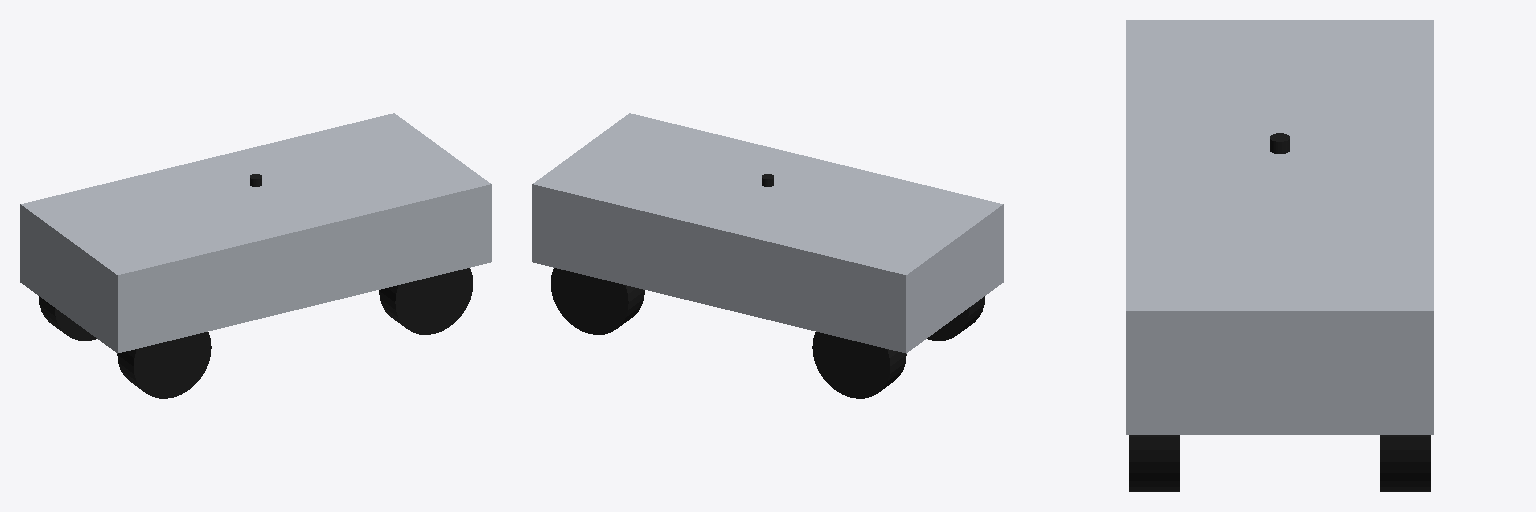
The robot description file, URDF, robot "cybertruck":
<?xml version="1.0" ?>
<!-- =================================================================================== -->
<!-- |    This document was autogenerated by xacro from install/cybertruck/share/cybertruck/urdf/cybertruck.urdf.xacro | -->
<!-- |    EDITING THIS FILE BY HAND IS NOT RECOMMENDED                                 | -->
<!-- =================================================================================== -->
<!--
  Cybertruck-style mobile robot.

  v = 0.1 m/s, omega = 0.1 rad/s
  wheel_radius r = 0.4175 m, wheel separation L = 1.46 m

  Rear wheels are driven, front wheels are frictionless casters.
  base_frame = body, odom_frame = odom.
-->
<robot name="cybertruck">
  <material name="silver">
    <color rgba="0.75 0.77 0.80 1.0"/>
  </material>
  <material name="dark">
    <color rgba="0.15 0.15 0.15 1.0"/>
  </material>
  <!-- ============================== links ============================ -->
  <link name="body">
    <visual>
      <geometry>
        <box size="4.0 1.8 0.8"/>
      </geometry>
      <origin rpy="0 0 0" xyz="0 0 1.0"/>
      <material name="silver"/>
    </visual>
    <collision>
      <geometry>
        <box size="4.0 1.8 0.8"/>
      </geometry>
      <origin rpy="0 0 0" xyz="0 0 1.0"/>
    </collision>
    <inertial>
      <mass value="800.0"/>
      <origin rpy="0 0 0" xyz="0 0 1.0"/>
      <inertia ixx="258.6666666666667" ixy="0.0" ixz="0.0" iyy="1109.3333333333333" iyz="0.0" izz="1282.6666666666667"/>
    </inertial>
  </link>
  <link name="lidar_link">
    <visual>
      <geometry>
        <cylinder length="0.08" radius="0.06"/>
      </geometry>
      <origin rpy="0 0 0" xyz="0 0 0.04"/>
      <material name="dark"/>
    </visual>
    <collision>
      <geometry>
        <cylinder length="0.08" radius="0.06"/>
      </geometry>
      <origin rpy="0 0 0" xyz="0 0 0.04"/>
    </collision>
    <inertial>
      <mass value="0.2"/>
      <origin rpy="0 0 0" xyz="0 0 0.04"/>
      <inertia ixx="0.000287" ixy="0.0" ixz="0.0" iyy="0.000287" iyz="0.0" izz="0.000360"/>
    </inertial>
  </link>
  <link name="back_left_wheel">
    <visual>
      <geometry>
        <cylinder length="0.3" radius="0.4175"/>
      </geometry>
      <origin rpy="1.5708 0 0" xyz="0 0 0"/>
      <material name="dark"/>
    </visual>
    <collision>
      <geometry>
        <cylinder length="0.3" radius="0.4175"/>
      </geometry>
      <origin rpy="1.5708 0 0" xyz="0 0 0"/>
    </collision>
    <inertial>
      <mass value="30.0"/>
      <origin rpy="0 0 0" xyz="0 0 0"/>
      <!-- axle along Y after the visual rotation above -->
      <inertia ixx="1.532296875" ixy="0.0" ixz="0.0" iyy="2.6145937499999996" iyz="0.0" izz="1.532296875"/>
    </inertial>
  </link>
  <joint name="body_to_back_left_wheel" type="continuous">
    <parent link="body"/>
    <child link="back_left_wheel"/>
    <origin rpy="0 0 0" xyz="-1.4 0.73 0.4175"/>
    <axis xyz="0 1 0"/>
    <dynamics damping="0.05" friction="0.0"/>
  </joint>
  <link name="back_right_wheel">
    <visual>
      <geometry>
        <cylinder length="0.3" radius="0.4175"/>
      </geometry>
      <origin rpy="1.5708 0 0" xyz="0 0 0"/>
      <material name="dark"/>
    </visual>
    <collision>
      <geometry>
        <cylinder length="0.3" radius="0.4175"/>
      </geometry>
      <origin rpy="1.5708 0 0" xyz="0 0 0"/>
    </collision>
    <inertial>
      <mass value="30.0"/>
      <origin rpy="0 0 0" xyz="0 0 0"/>
      <!-- axle along Y after the visual rotation above -->
      <inertia ixx="1.532296875" ixy="0.0" ixz="0.0" iyy="2.6145937499999996" iyz="0.0" izz="1.532296875"/>
    </inertial>
  </link>
  <joint name="body_to_back_right_wheel" type="continuous">
    <parent link="body"/>
    <child link="back_right_wheel"/>
    <origin rpy="0 0 0" xyz="-1.4 -0.73 0.4175"/>
    <axis xyz="0 1 0"/>
    <dynamics damping="0.05" friction="0.0"/>
  </joint>
  <link name="front_left_wheel">
    <visual>
      <geometry>
        <cylinder length="0.3" radius="0.4175"/>
      </geometry>
      <origin rpy="1.5708 0 0" xyz="0 0 0"/>
      <material name="dark"/>
    </visual>
    <collision>
      <geometry>
        <cylinder length="0.3" radius="0.4175"/>
      </geometry>
      <origin rpy="1.5708 0 0" xyz="0 0 0"/>
    </collision>
    <inertial>
      <mass value="20.0"/>
      <origin rpy="0 0 0" xyz="0 0 0"/>
      <!-- axle along Y after the visual rotation above -->
      <inertia ixx="1.02153125" ixy="0.0" ixz="0.0" iyy="1.7430625" iyz="0.0" izz="1.02153125"/>
    </inertial>
  </link>
  <joint name="body_to_front_left_wheel" type="continuous">
    <parent link="body"/>
    <child link="front_left_wheel"/>
    <origin rpy="0 0 0" xyz="1.4 0.73 0.4175"/>
    <axis xyz="0 1 0"/>
    <dynamics damping="0.05" friction="0.0"/>
  </joint>
  <link name="front_right_wheel">
    <visual>
      <geometry>
        <cylinder length="0.3" radius="0.4175"/>
      </geometry>
      <origin rpy="1.5708 0 0" xyz="0 0 0"/>
      <material name="dark"/>
    </visual>
    <collision>
      <geometry>
        <cylinder length="0.3" radius="0.4175"/>
      </geometry>
      <origin rpy="1.5708 0 0" xyz="0 0 0"/>
    </collision>
    <inertial>
      <mass value="20.0"/>
      <origin rpy="0 0 0" xyz="0 0 0"/>
      <!-- axle along Y after the visual rotation above -->
      <inertia ixx="1.02153125" ixy="0.0" ixz="0.0" iyy="1.7430625" iyz="0.0" izz="1.02153125"/>
    </inertial>
  </link>
  <joint name="body_to_front_right_wheel" type="continuous">
    <parent link="body"/>
    <child link="front_right_wheel"/>
    <origin rpy="0 0 0" xyz="1.4 -0.73 0.4175"/>
    <axis xyz="0 1 0"/>
    <dynamics damping="0.05" friction="0.0"/>
  </joint>
  <joint name="body_to_lidar" type="fixed">
    <parent link="body"/>
    <child link="lidar_link"/>
    <origin rpy="0 0 0" xyz="0 0 1.5"/>
  </joint>
  <!-- front wheels are casters: no friction at all -->
  <gazebo reference="front_left_wheel">
    <mu1>0.0</mu1>
    <mu2>0.0</mu2>
  </gazebo>
  <gazebo reference="front_right_wheel">
    <mu1>0.0</mu1>
    <mu2>0.0</mu2>
  </gazebo>
  <!-- rear wheels need real traction -->
  <gazebo reference="back_left_wheel">
    <mu1>1.0</mu1>
    <mu2>1.0</mu2>
  </gazebo>
  <gazebo reference="back_right_wheel">
    <mu1>1.0</mu1>
    <mu2>1.0</mu2>
  </gazebo>
  <!-- 360 degree 2D lidar for SLAM; scan plane 1.5 m above the floor -->
  <gazebo reference="lidar_link">
    <sensor name="lidar_sensor" type="gpu_lidar">
      <pose>0 0 0 0 0 0</pose>
      <visualize>true</visualize>
      <always_on>true</always_on>
      <update_rate>10</update_rate>
      <topic>scan</topic>
      <lidar>
        <scan>
          <horizontal>
            <samples>720</samples>
            <resolution>1</resolution>
            <min_angle>-3.14159</min_angle>
            <max_angle>3.14159</max_angle>
          </horizontal>
          <vertical>
            <samples>1</samples>
            <resolution>1</resolution>
            <min_angle>0.0</min_angle>
            <max_angle>0.0</max_angle>
          </vertical>
        </scan>
        <range>
          <min>0.1</min>
          <max>20.0</max>
          <resolution>0.01</resolution>
        </range>
      </lidar>
    </sensor>
  </gazebo>
  <!-- =========================== ros2_control ======================== -->
  <ros2_control name="CybertruckSystem" type="system">
    <hardware>
      <plugin>gz_ros2_control/GazeboSimSystem</plugin>
    </hardware>
    <joint name="body_to_back_left_wheel">
      <command_interface name="velocity"/>
      <state_interface name="position"/>
      <state_interface name="velocity"/>
    </joint>
    <joint name="body_to_back_right_wheel">
      <command_interface name="velocity"/>
      <state_interface name="position"/>
      <state_interface name="velocity"/>
    </joint>
    <!-- passive front wheels: state only, so joint_state_broadcaster
         reports them and robot_state_publisher can build their TF -->
    <joint name="body_to_front_left_wheel">
      <state_interface name="position"/>
      <state_interface name="velocity"/>
    </joint>
    <joint name="body_to_front_right_wheel">
      <state_interface name="position"/>
      <state_interface name="velocity"/>
    </joint>
  </ros2_control>
  <gazebo>
    <plugin filename="gz_ros2_control-system" name="gz_ros2_control::GazeboSimROS2ControlPlugin">
      <parameters>/home/kunal/ros2_ws1/install/cybertruck/share/cybertruck/config/controllers.yaml</parameters>
    </plugin>
  </gazebo>
</robot>

--- Facts derived from the render (not from the file) ---
The picture shows the robot from 3 angles, left to right: view 1: azimuth 30°, elevation 25°; view 2: azimuth 150°, elevation 25°; view 3: azimuth 270°, elevation 25°; orthographic projection.
Robot: cybertruck — 6 links, 5 joints (4 continuous, 1 fixed); root link body; default pose: every joint at zero.
Visible links, largest first — view 1: body, front_right_wheel, back_right_wheel, back_left_wheel; view 2: body, front_left_wheel, back_left_wheel, back_right_wheel; view 3: body, front_left_wheel, front_right_wheel.
Boxes of the visible links, <box> form: body: <box>20,113,491,353</box>; front_right_wheel: <box>379,268,472,334</box>; back_right_wheel: <box>117,332,211,398</box>; back_left_wheel: <box>39,296,96,340</box>; body: <box>532,113,1003,353</box>; front_left_wheel: <box>551,268,644,334</box>; back_left_wheel: <box>812,332,906,398</box>; back_right_wheel: <box>927,296,984,340</box>; body: <box>1126,20,1433,434</box>; front_left_wheel: <box>1380,435,1430,491</box>; front_right_wheel: <box>1129,435,1179,491</box>.
Size in the robot's own frame: 4 by 1.8 by 1.58 metres.
Geometry: primitives only (box / cylinder / sphere), no mesh files.
